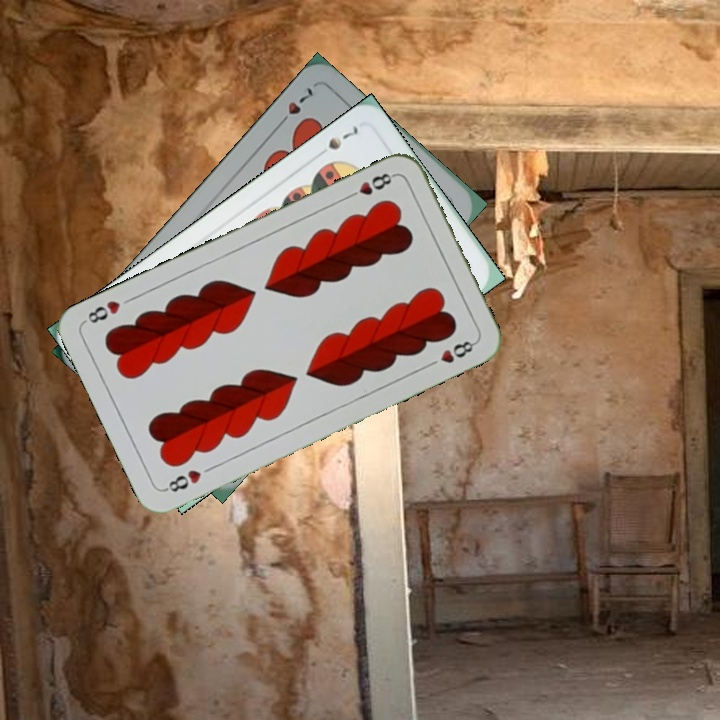H7: (272, 83, 315, 131)
H8: (343, 169, 398, 202), (160, 465, 204, 495)
S7: (311, 121, 361, 161)
